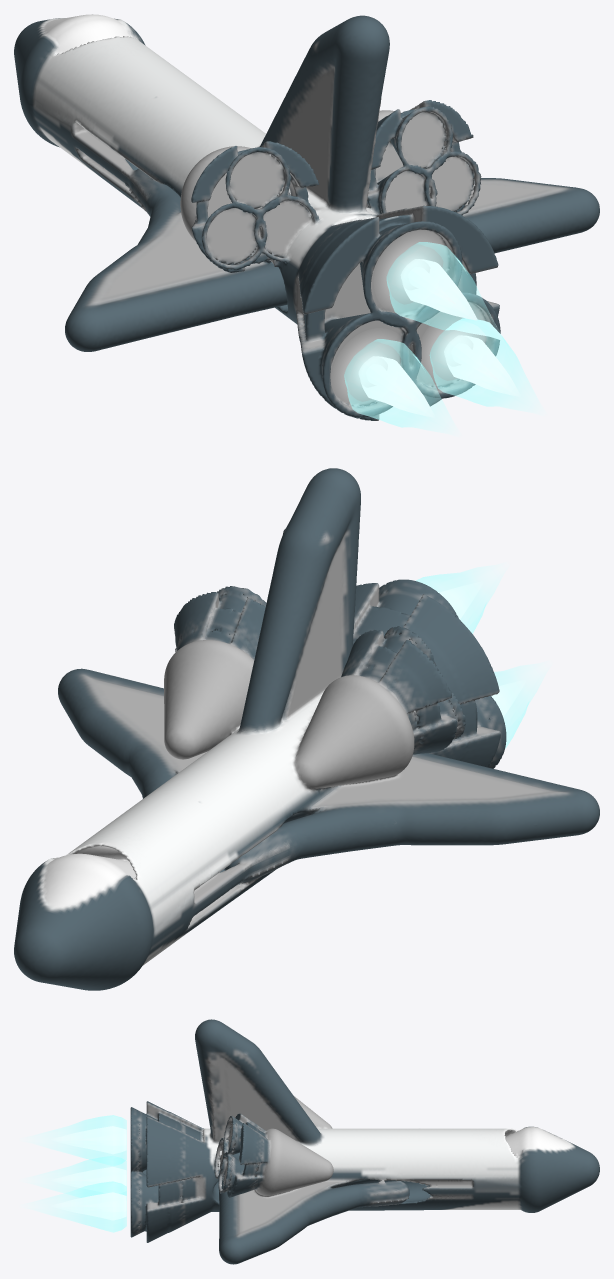
The model's file is spacecraft.glb.
3 views of the same model, one above another, from view 1: azimuth 30°, elevation 25°; view 2: azimuth 150°, elevation 25°; view 3: azimuth 270°, elevation 25° (orthographic). The views are drawn at different scales.
Visible parts, largest first — view 1: Hull_Original_Textured, Starboard_Outer_Blue_Flame, Ventral_Outer_Blue_Flame, Port_Outer_Blue_Flame, Port_Inner_Cyan_Flame, Starboard_Inner_Cyan_Flame, Ventral_Inner_Cyan_Flame, Starboard_Engine_Nozzle_Glow, Ventral_Engine_Nozzle_Glow, Port_Engine_Nozzle_Glow, Starboard_White_Core, Port_White_Core (+1 smaller); view 2: Hull_Original_Textured, Ventral_Outer_Blue_Flame, Starboard_Outer_Blue_Flame, Ventral_Inner_Cyan_Flame; view 3: Hull_Original_Textured, Port_Outer_Blue_Flame, Ventral_Outer_Blue_Flame, Starboard_Outer_Blue_Flame, Ventral_Inner_Cyan_Flame, Port_Inner_Cyan_Flame, Starboard_Inner_Cyan_Flame.
Boxes of the visible parts, <box> form: Hull_Original_Textured: <box>14,14,599,420</box>; Starboard_Outer_Blue_Flame: <box>344,339,456,434</box>; Ventral_Outer_Blue_Flame: <box>386,242,498,337</box>; Port_Outer_Blue_Flame: <box>429,318,541,413</box>; Port_Inner_Cyan_Flame: <box>444,335,518,395</box>; Starboard_Inner_Cyan_Flame: <box>359,356,433,416</box>; Ventral_Inner_Cyan_Flame: <box>401,259,475,319</box>; Starboard_Engine_Nozzle_Glow: <box>337,334,400,401</box>; Ventral_Engine_Nozzle_Glow: <box>380,237,442,304</box>; Port_Engine_Nozzle_Glow: <box>423,318,485,380</box>; Starboard_White_Core: <box>367,365,408,397</box>; Port_White_Core: <box>452,344,493,376</box>; Hull_Original_Textured: <box>14,468,599,990</box>; Ventral_Outer_Blue_Flame: <box>416,564,504,633</box>; Starboard_Outer_Blue_Flame: <box>491,663,547,748</box>; Ventral_Inner_Cyan_Flame: <box>439,582,481,619</box>; Hull_Original_Textured: <box>130,1019,599,1264</box>; Port_Outer_Blue_Flame: <box>28,1181,126,1232</box>; Ventral_Outer_Blue_Flame: <box>28,1115,126,1166</box>; Starboard_Outer_Blue_Flame: <box>28,1156,126,1197</box>; Ventral_Inner_Cyan_Flame: <box>54,1126,126,1153</box>; Port_Inner_Cyan_Flame: <box>54,1192,126,1220</box>; Starboard_Inner_Cyan_Flame: <box>54,1167,126,1192</box>.
Size of the model in its own units: 15.42 by 9.9 by 24.1.
Materials: 5 (1 with a texture image).
